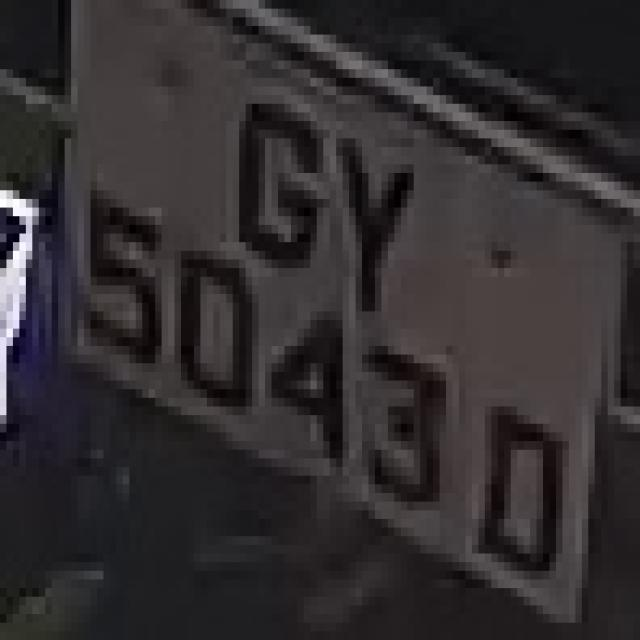0: (168, 225, 265, 424)
3: (349, 303, 459, 510)
4: (259, 268, 349, 493)
5: (71, 164, 168, 398)
D: (466, 381, 588, 614)
G: (220, 61, 317, 294)
Y: (316, 95, 426, 320)
